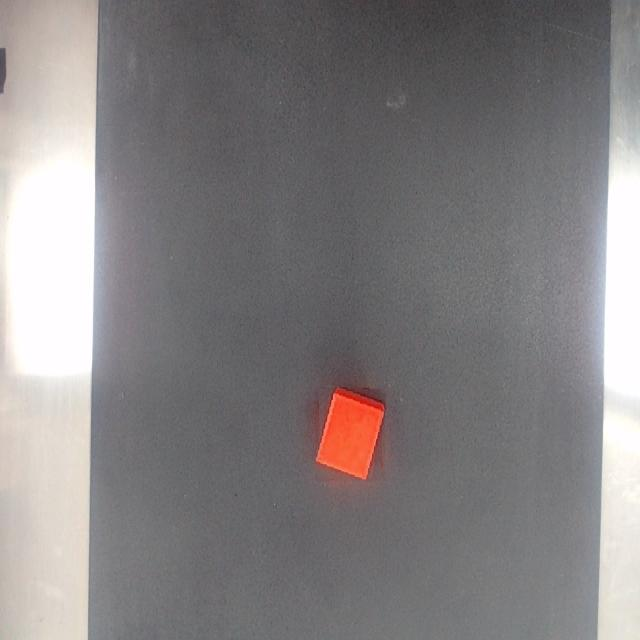Rojo: (315, 388, 385, 481)
